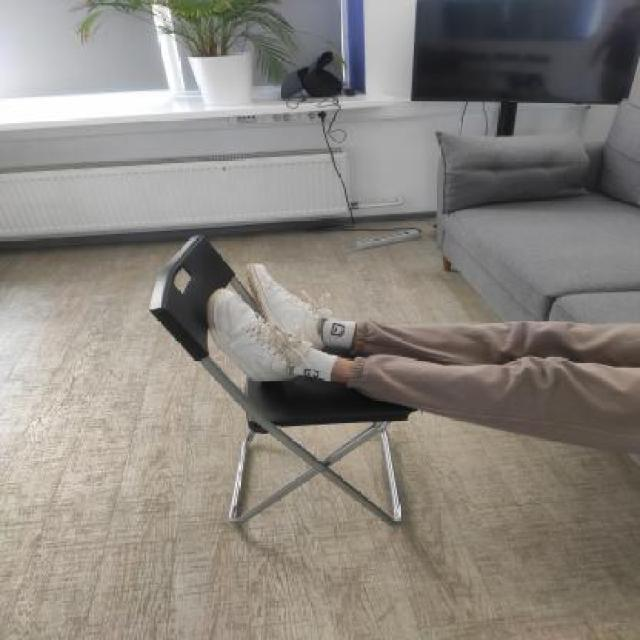chair: (142, 219, 440, 536)
